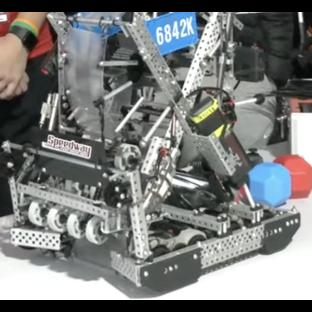Robot: (0, 12, 302, 291)
